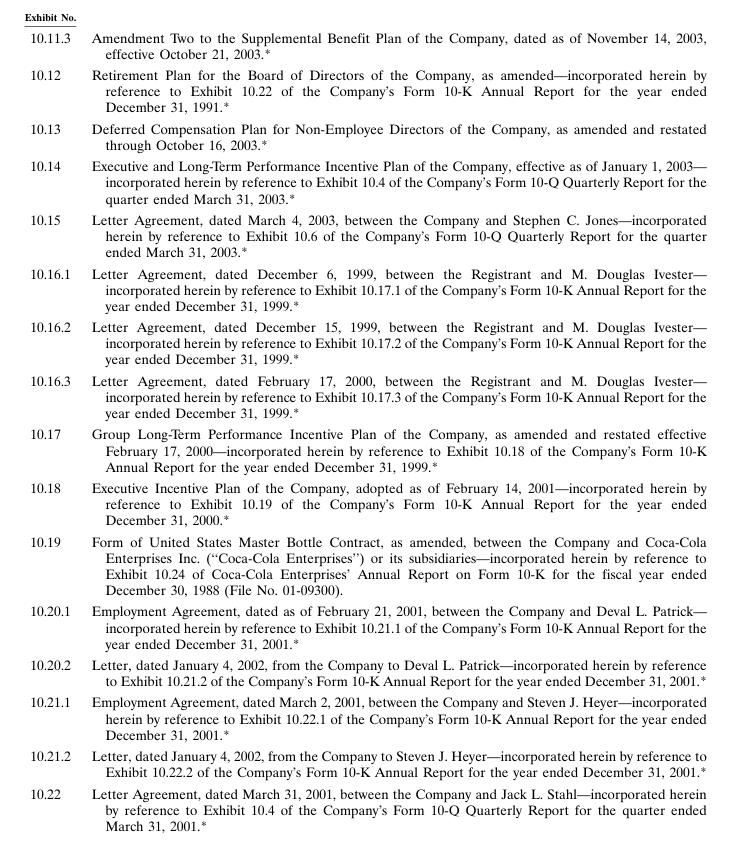table: (29, 28, 705, 833)
table column: (80, 28, 705, 833), (29, 28, 80, 833)
table row: (29, 530, 705, 599), (29, 63, 705, 117), (29, 154, 705, 208), (29, 208, 705, 262), (29, 315, 705, 369), (29, 422, 705, 476), (29, 476, 705, 530), (29, 599, 705, 653), (29, 690, 705, 744), (29, 262, 705, 315), (29, 369, 705, 422), (29, 782, 705, 833), (29, 744, 705, 782), (29, 117, 705, 154), (29, 653, 705, 690), (29, 28, 705, 63)
